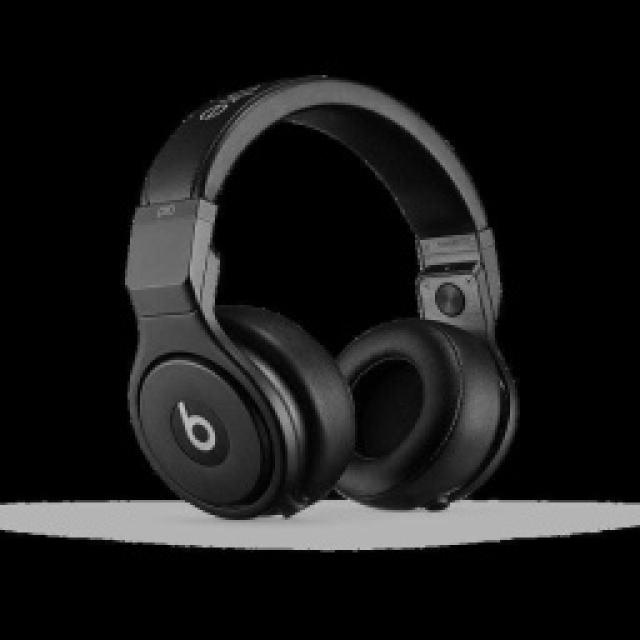headphones: (120, 70, 520, 518)
